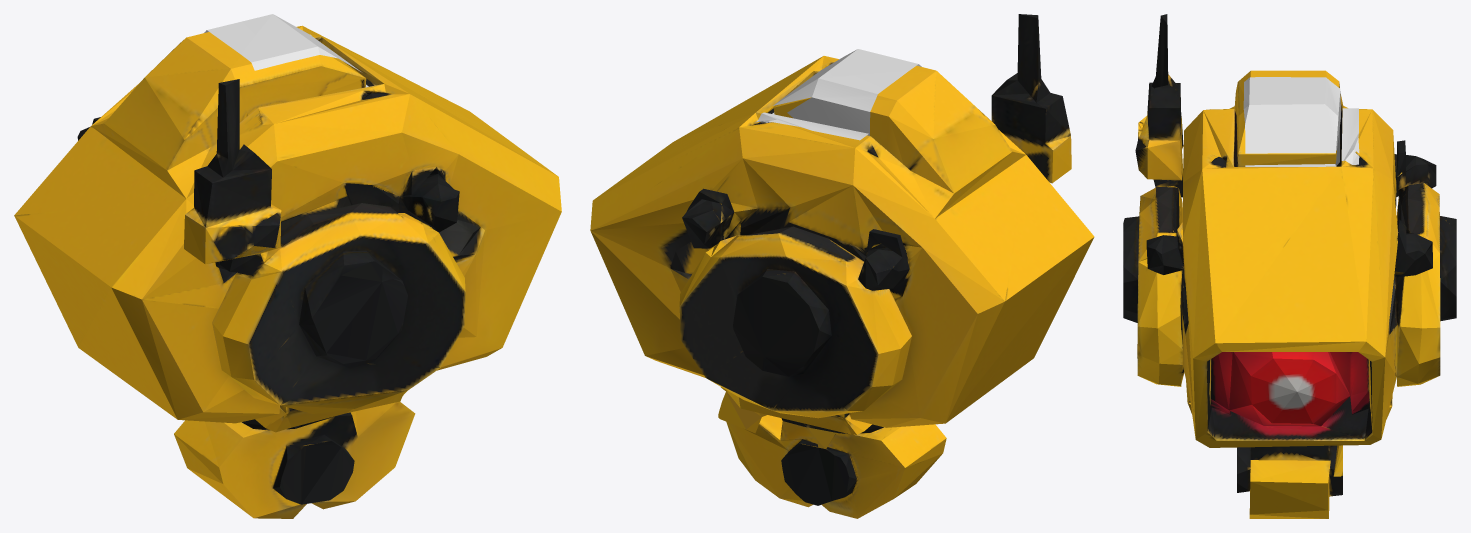
The model's file is SM_ChaserV2Debris_Torso.fbx.
3 views of the same model, side by side, from view 1: azimuth 30°, elevation 25°; view 2: azimuth 150°, elevation 25°; view 3: azimuth 270°, elevation 25° (orthographic). The views are drawn at different scales.
Parts seen in each view (by area): view 1: SM_ChaserV2Debris_Torso, Z_Emblem; view 2: SM_ChaserV2Debris_Torso, Z_Emblem; view 3: SM_ChaserV2Debris_Torso, Z_Emblem.
Part boxes in pixels (x1,y1,x2,y2): SM_ChaserV2Debris_Torso: (14, 25, 561, 518); Z_Emblem: (204, 14, 368, 87); SM_ChaserV2Debris_Torso: (590, 14, 1094, 518); Z_Emblem: (755, 49, 921, 140); SM_ChaserV2Debris_Torso: (1123, 14, 1456, 518); Z_Emblem: (1243, 77, 1359, 166).
Size of the model in its own units: 55.16 by 58.85 by 41.
2 materials, 1 textured.
